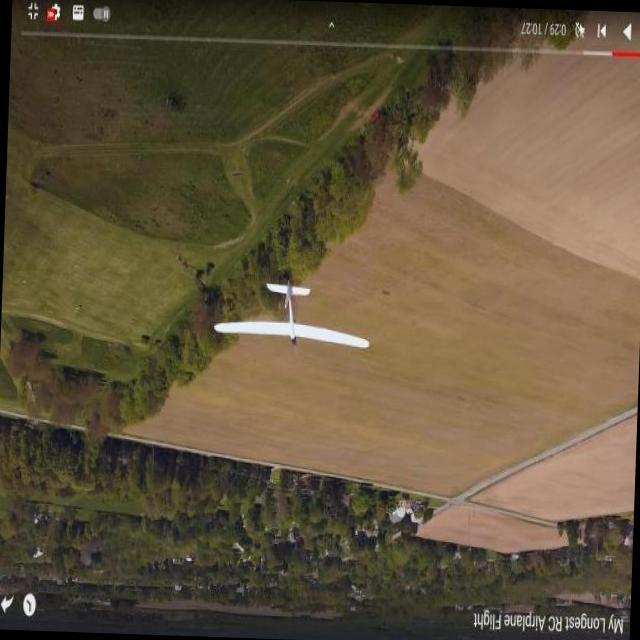iha: (205, 286, 369, 342)
